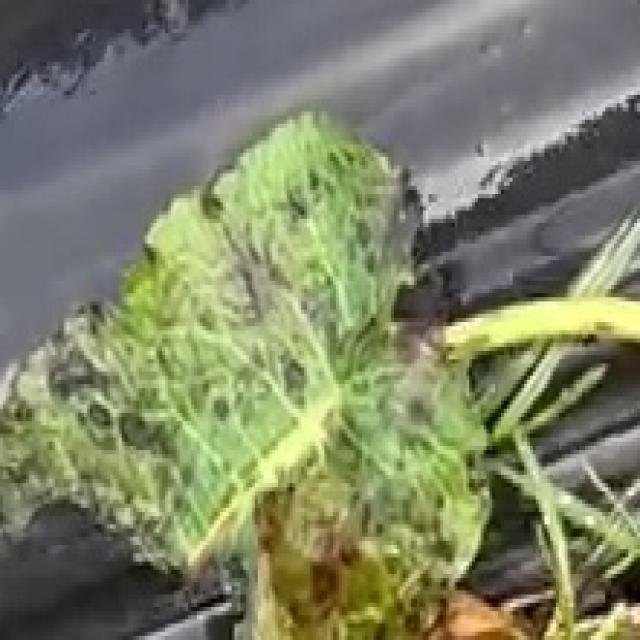organic waste: (4, 128, 587, 620)
